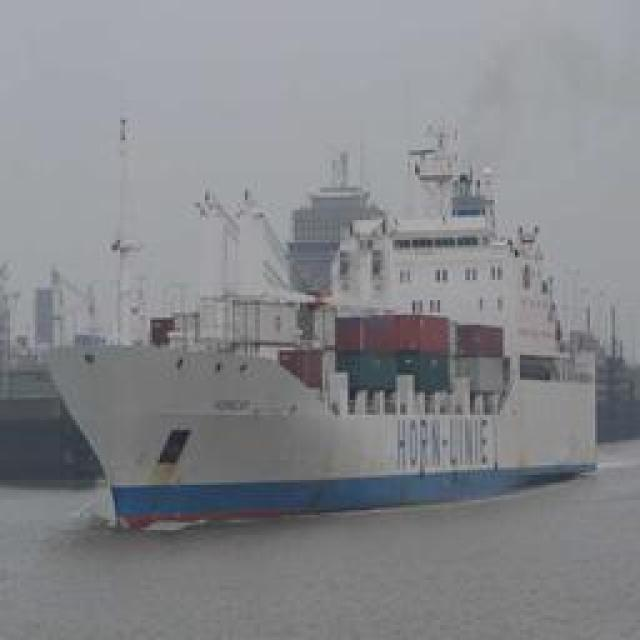ship: (41, 126, 604, 536)
